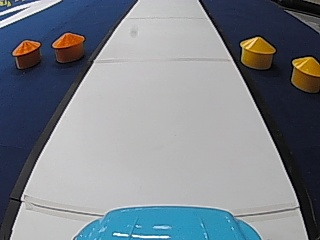granary: (238, 33, 276, 69), (288, 54, 320, 91), (50, 29, 85, 62), (10, 37, 41, 68)
